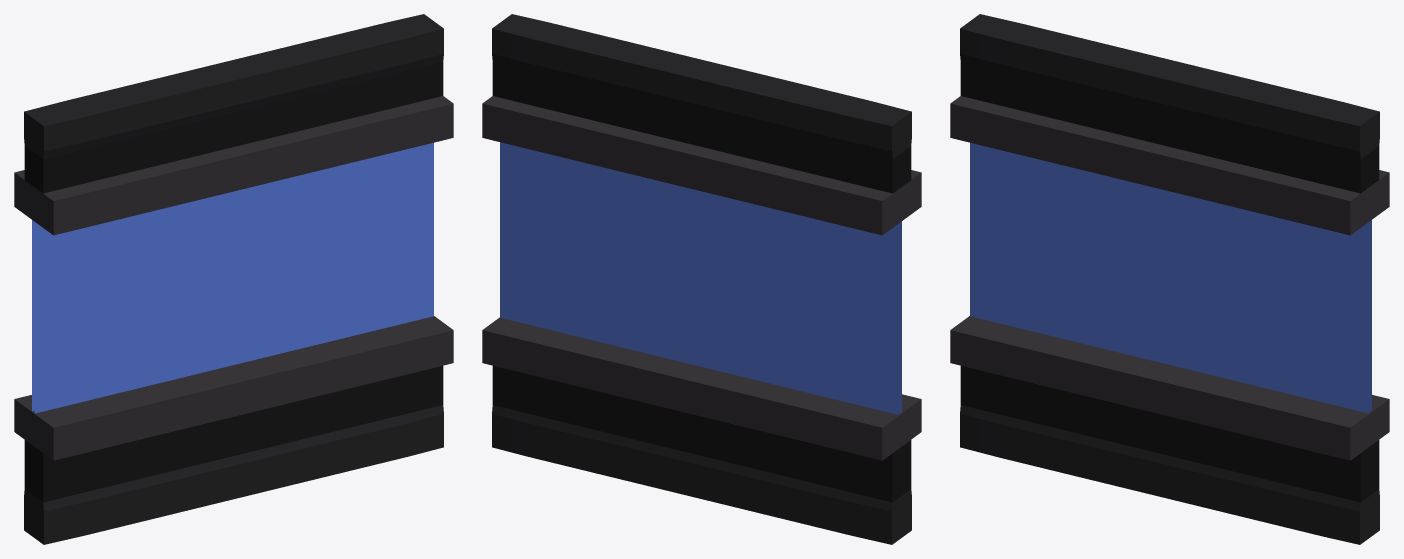
Rendered from Wall_Window_Middle.fbx.
3 views of the same model, side by side, from view 1: azimuth 30°, elevation 25°; view 2: azimuth 150°, elevation 25°; view 3: azimuth 330°, elevation 25° (orthographic).
Parts seen in each view (by area): view 1: Wall_Window_Middle; view 2: Wall_Window_Middle; view 3: Wall_Window_Middle.
Boxes of the visible parts, <box> form: Wall_Window_Middle: <box>14,14,453,544</box>; Wall_Window_Middle: <box>482,14,921,544</box>; Wall_Window_Middle: <box>950,14,1389,544</box>.
Size of the model in its own units: 500 by 500 by 84.86.
